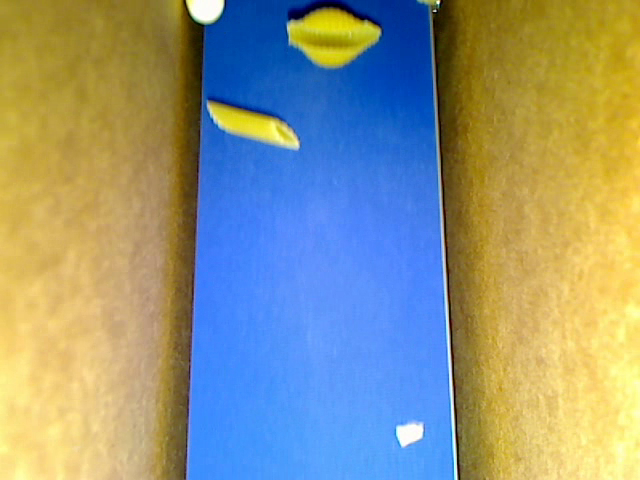penne: (206, 100, 301, 150)
shell: (286, 9, 381, 69)
